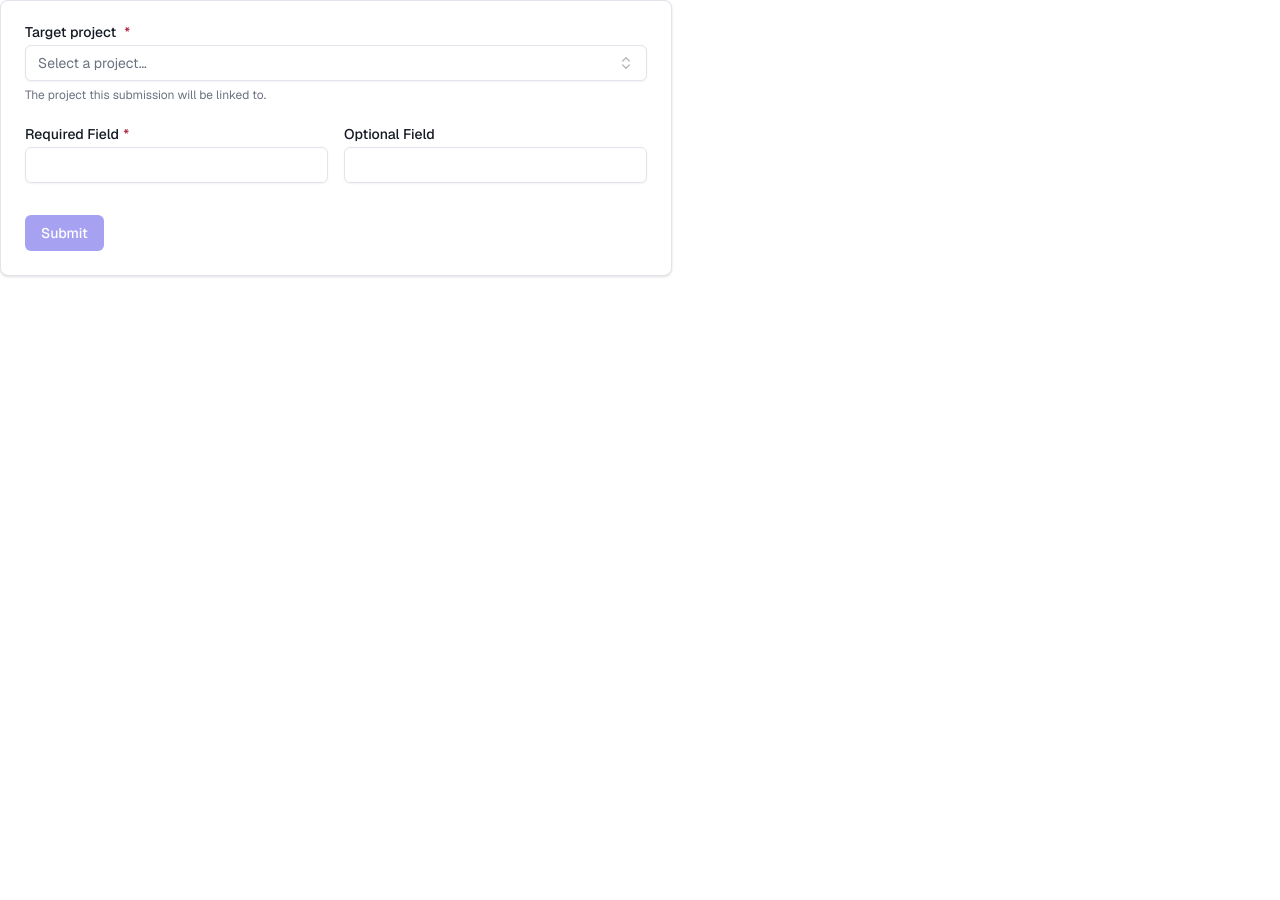
Test: FillForm — successful submit › POSTs to /api/forms/{id}/submissions with values and target_project_id
Type "test value" into the field labelled "Required Field *".
click(176, 165); type("test value")  # box left=25, top=147, right=328, bottom=183
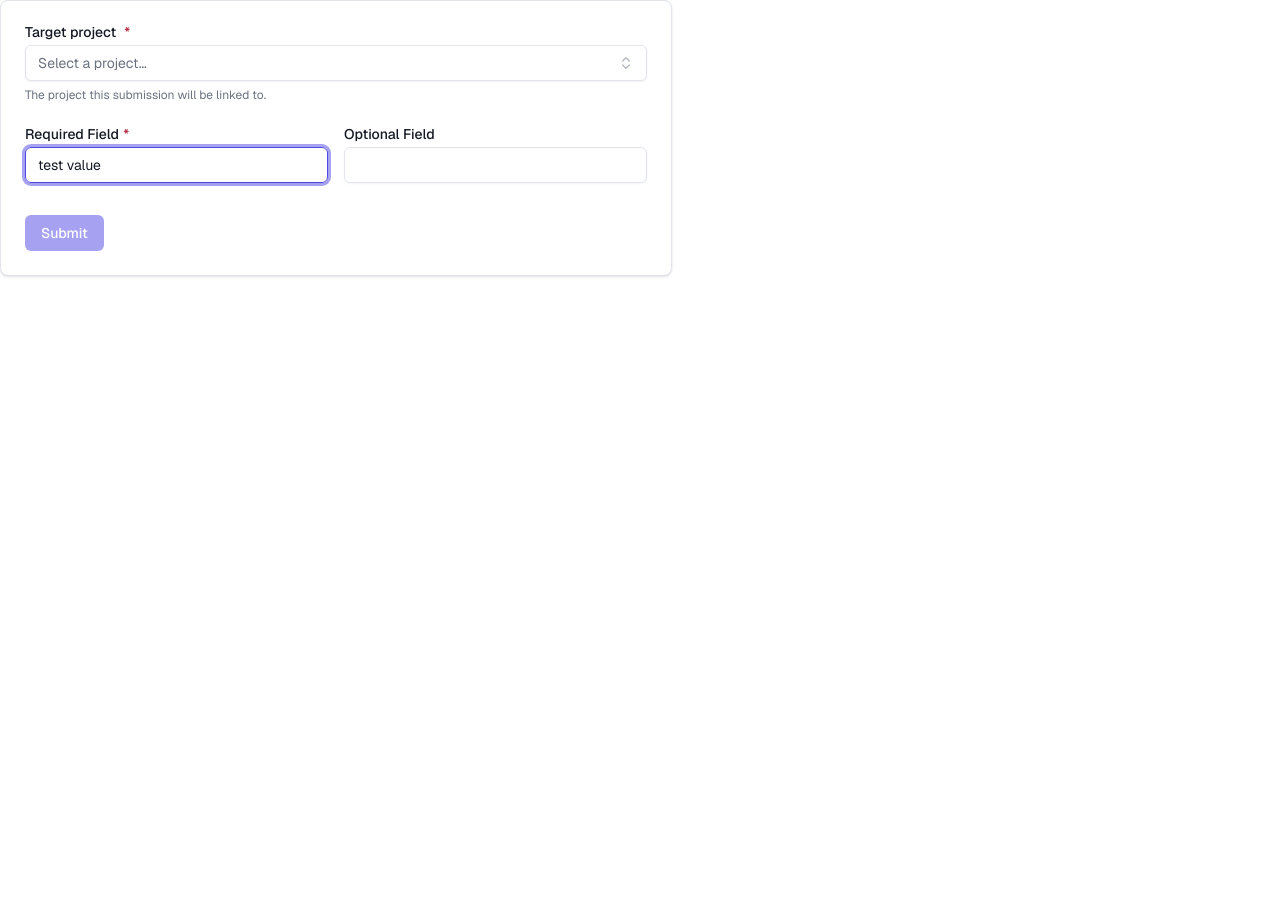
Pick a project
Click the dropdown with test id "target-project-trigger".
click(92, 63)  # box left=25, top=45, right=647, bottom=81
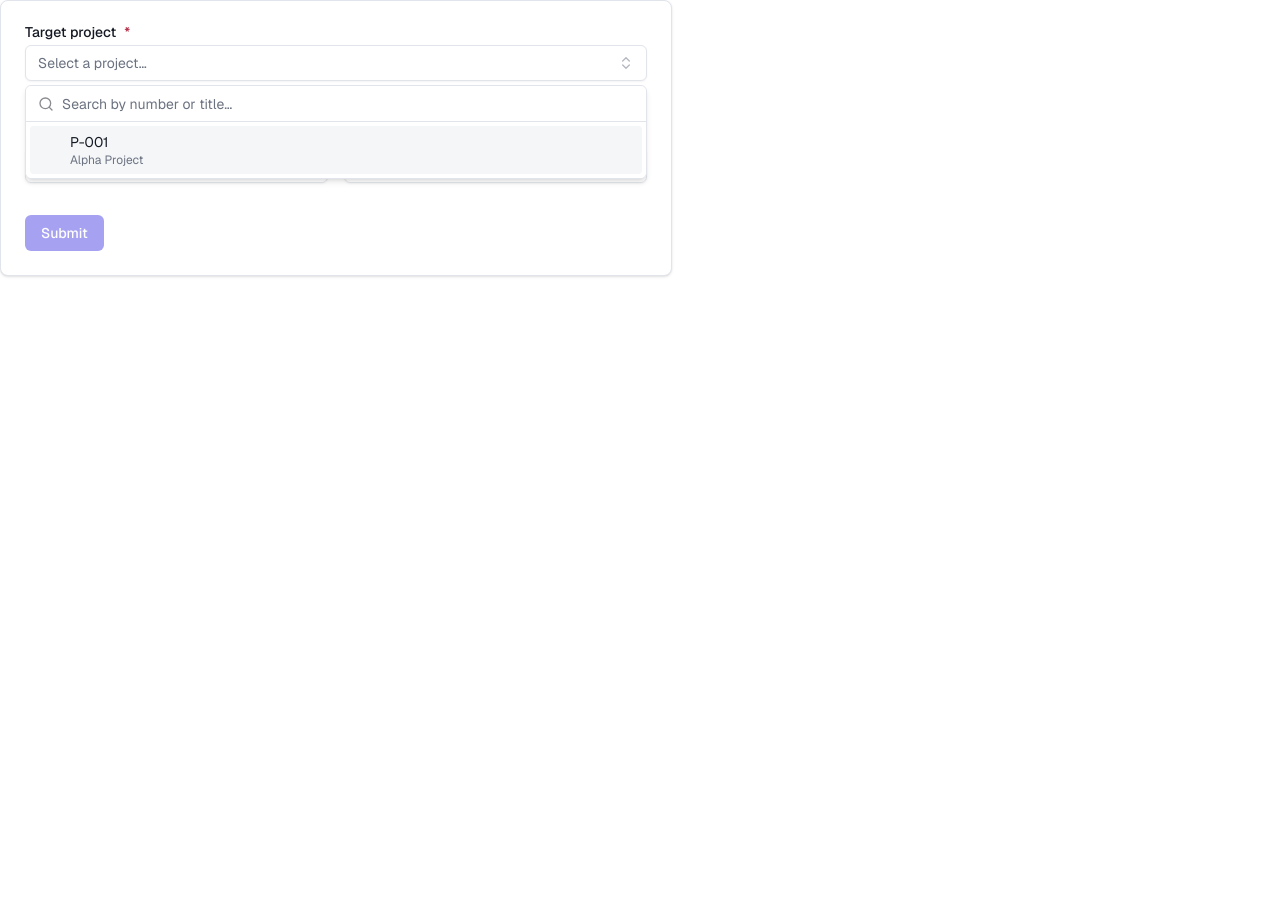
Result: the text "Alpha Project" is shown
Click the text "Alpha Project".
click(107, 160)  # box left=70, top=152, right=143, bottom=168
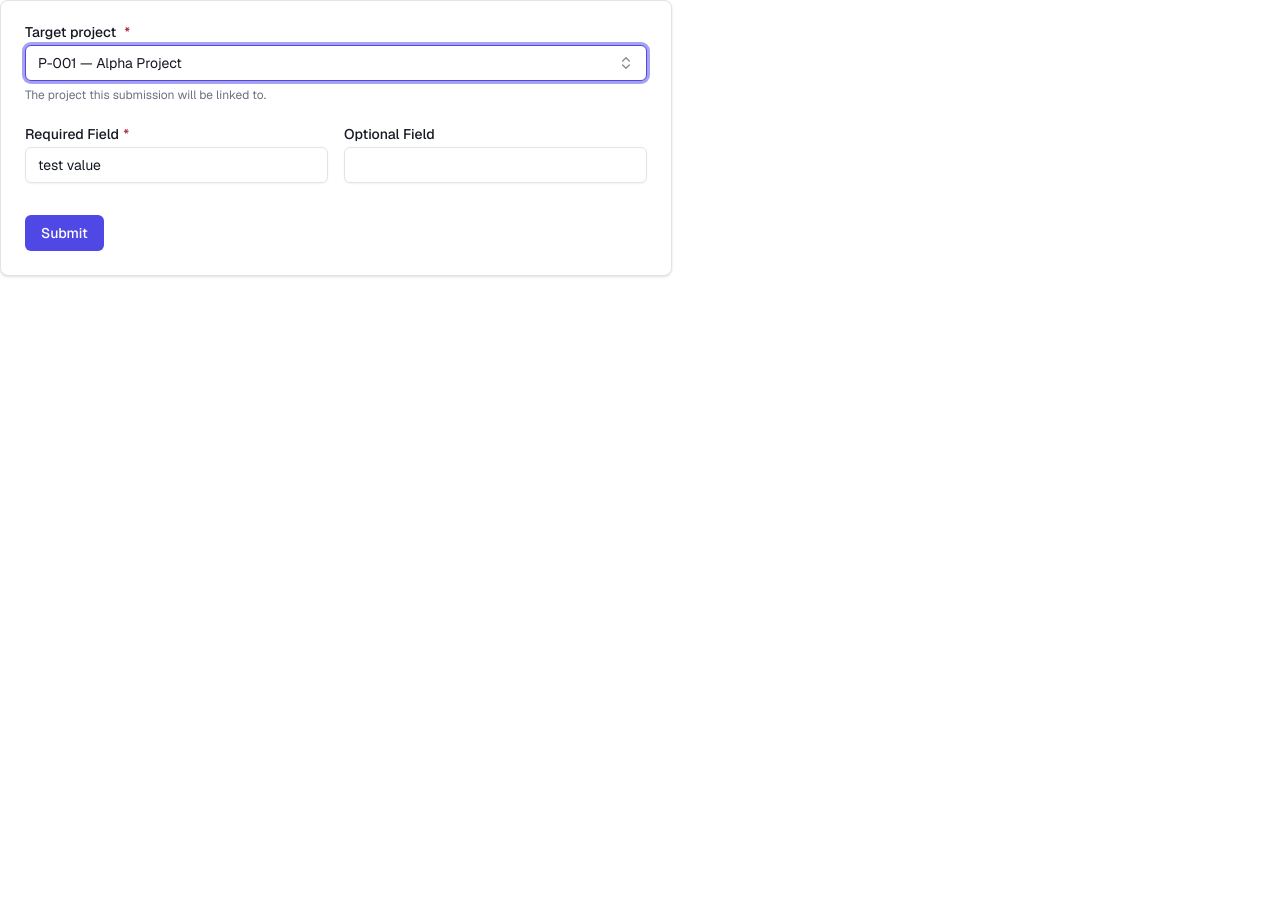
Result: the button "Submit" is enabled
Click the button "Submit".
click(64, 233)  # box left=25, top=215, right=104, bottom=251
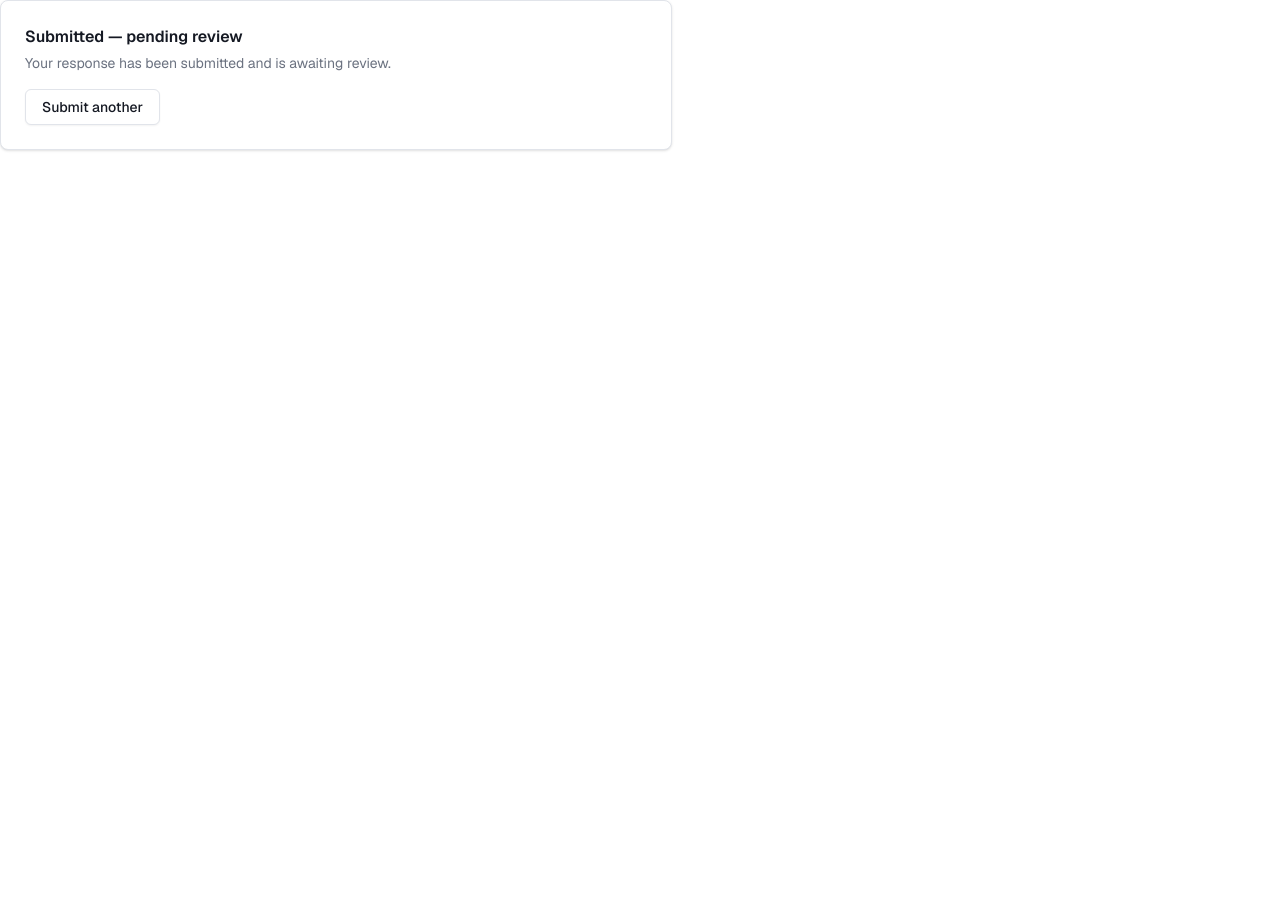
Result: the text "Submitted — pending review" is shown at left=25, top=26, right=243, bottom=47
